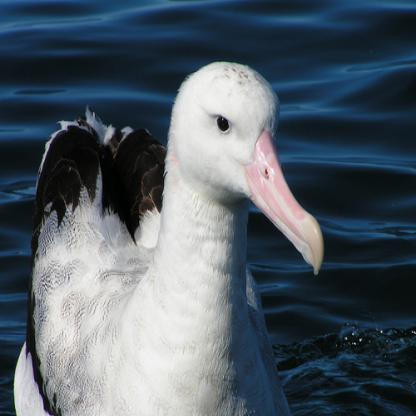bird: (13, 55, 324, 415)
